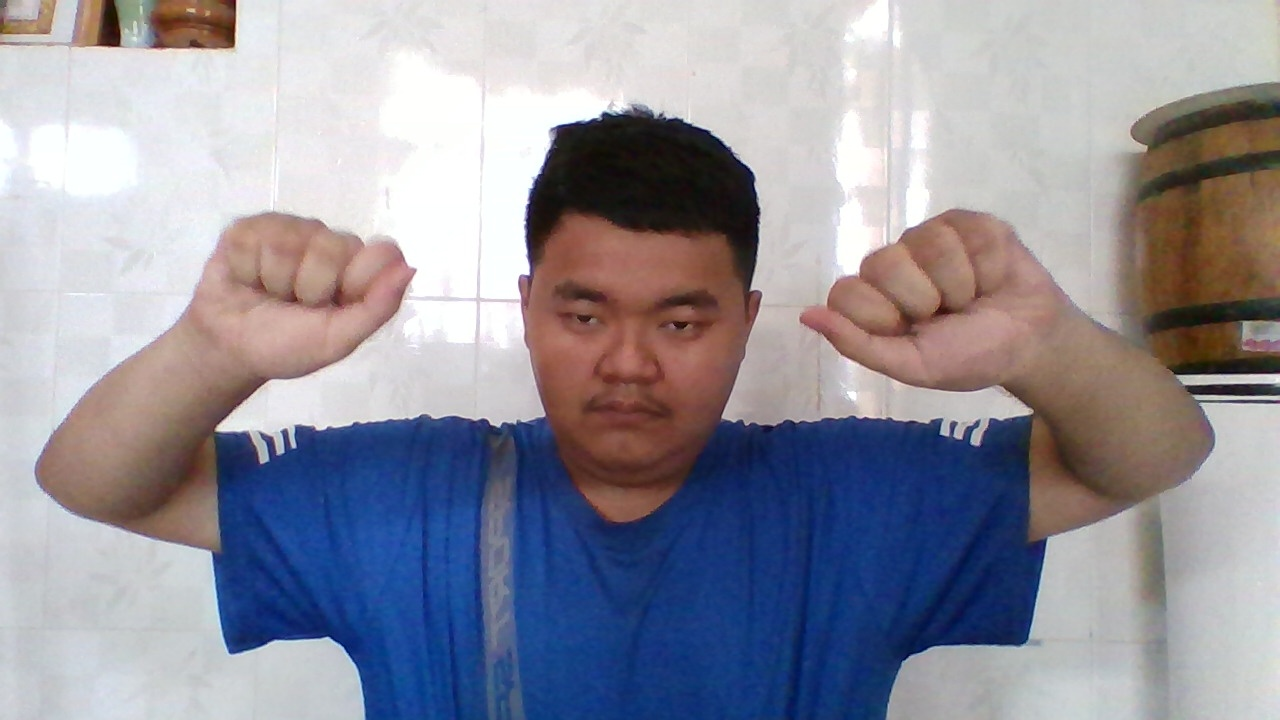A: (795, 208, 1046, 384), (211, 208, 419, 376)
